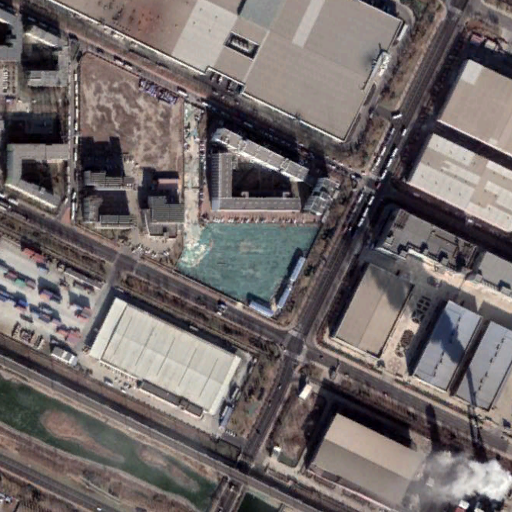cw: (174, 222, 323, 316)
